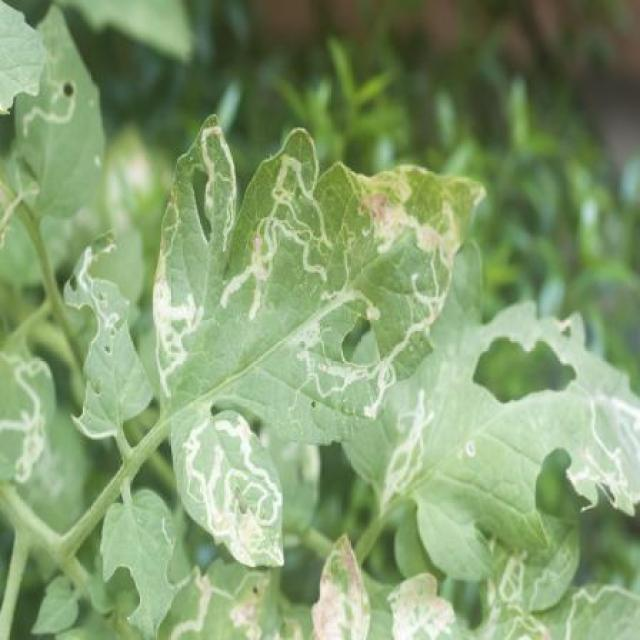Leaf Miner: (152, 109, 489, 572)
